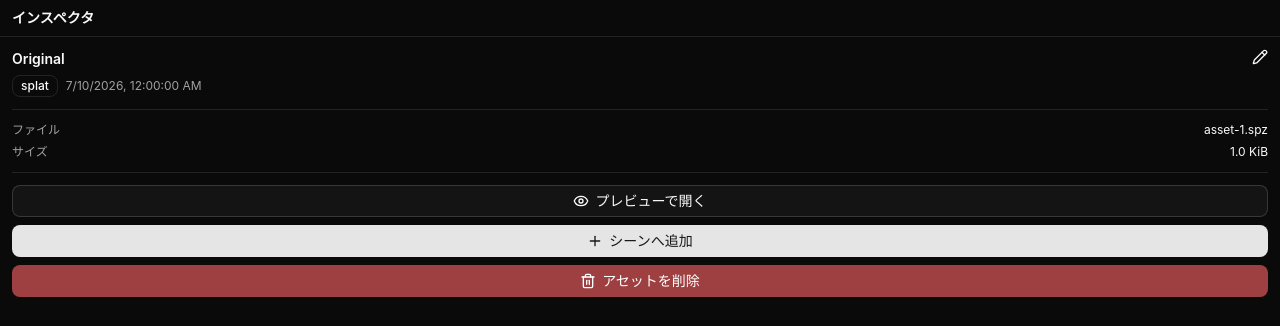
InspectorPanel › opens from the pencil or F2 and cancels with Escape
Click the button named "アセット名を編集" at coordinates (1260, 57), box [1252, 49, 1268, 65]
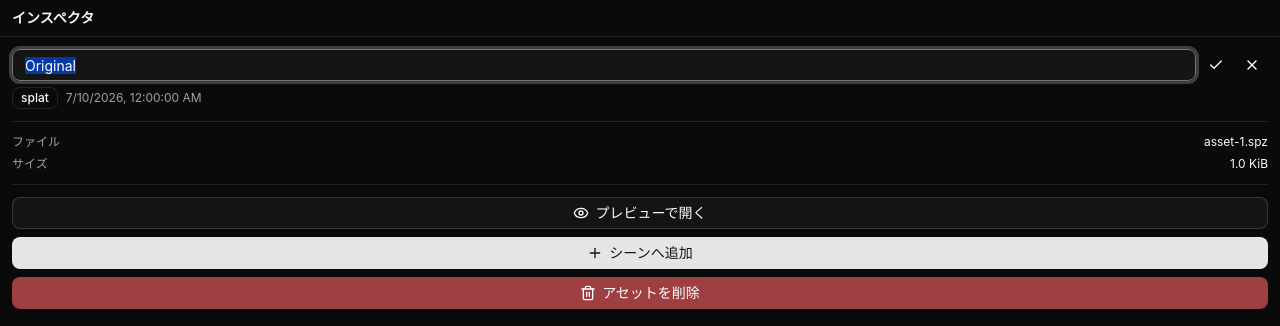
Press Escape in the field named "アセット名", box [12, 49, 1196, 81]
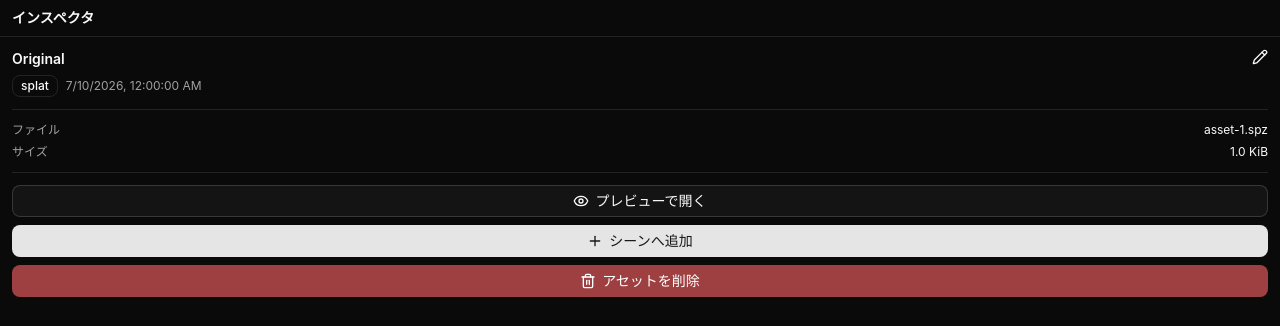
Check: the field labelled "アセット名" is gone
Press F2
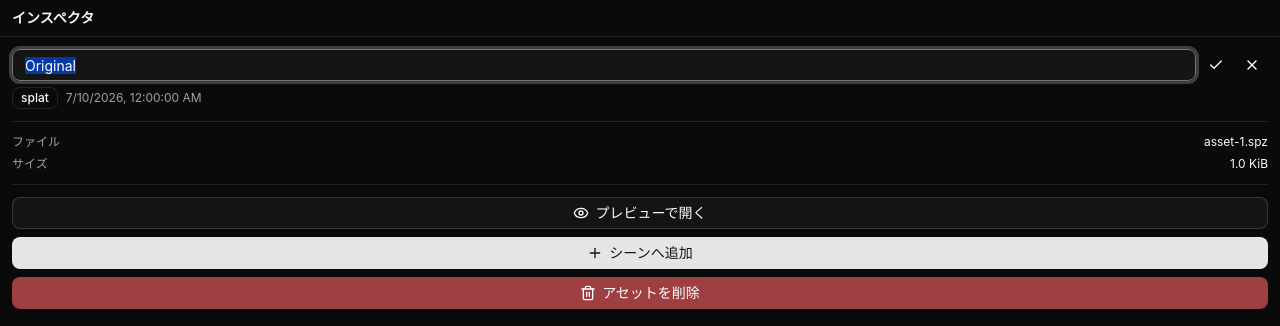
Check: the field named "アセット名" is shown, box [12, 49, 1196, 81]
